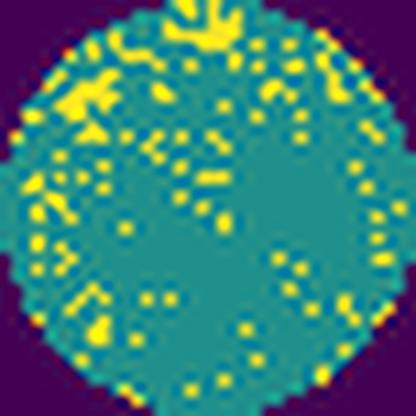Loc: (160, 0, 247, 70), (55, 64, 124, 142)
